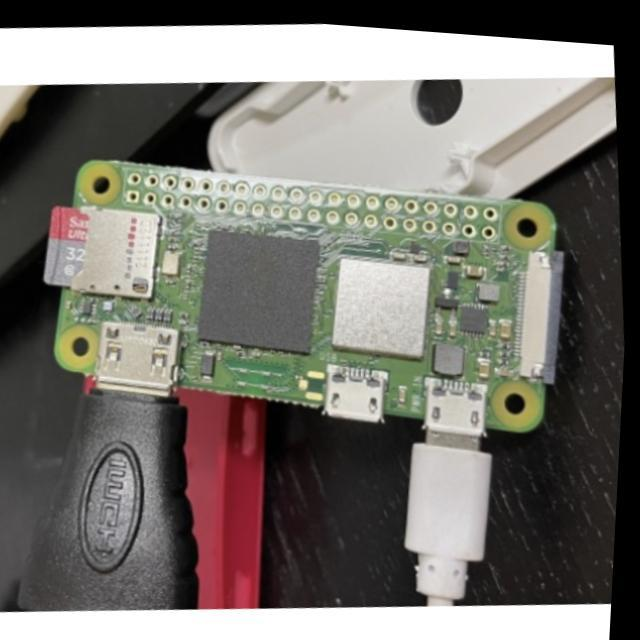Raspberry-Pi-Zero-2-W: (44, 162, 564, 437)
